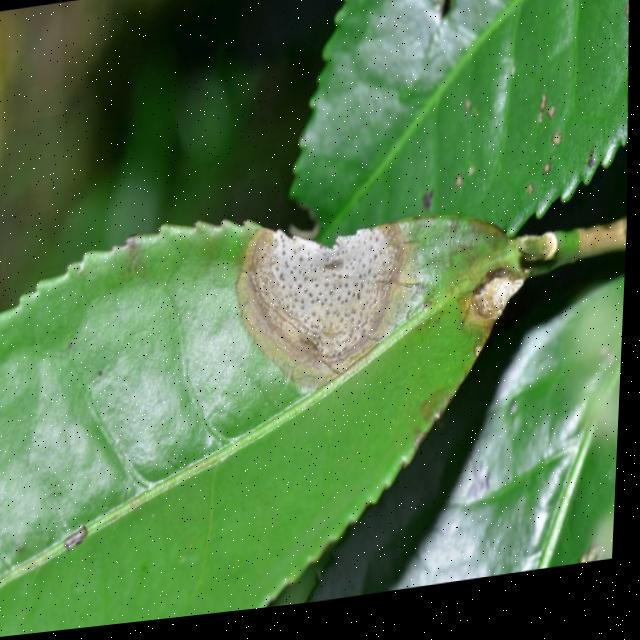Tea cloud leaf blight: (239, 209, 409, 387)
